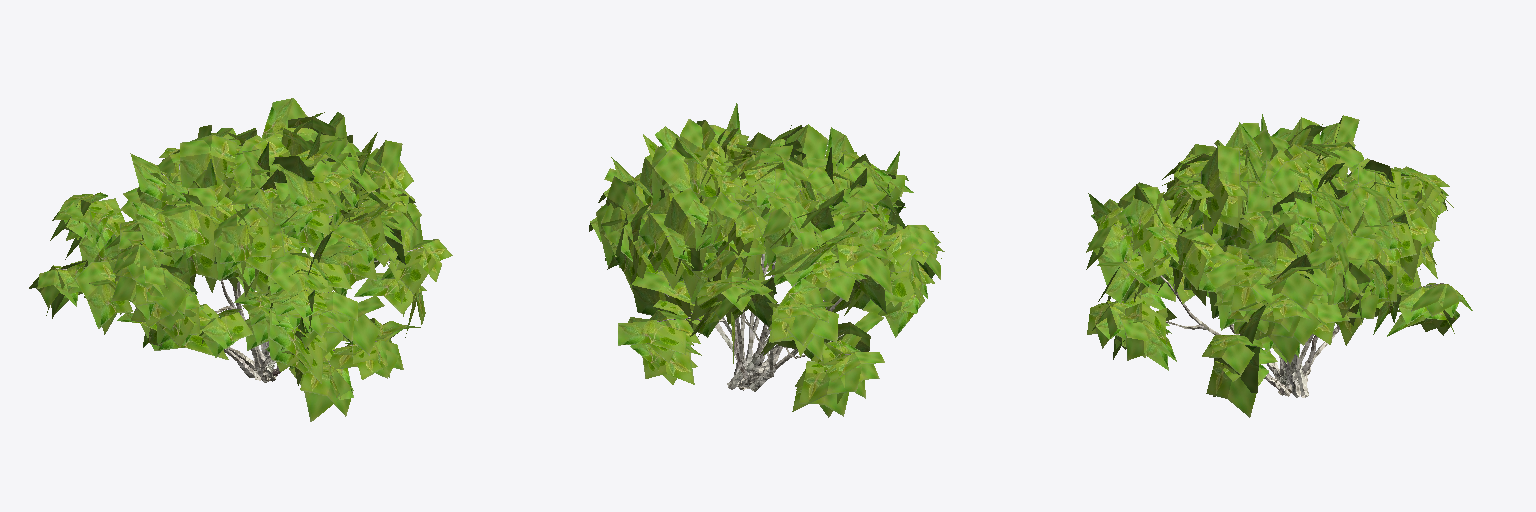
The picture shows the model from 3 angles: view 1: azimuth 30°, elevation 25°; view 2: azimuth 150°, elevation 25°; view 3: azimuth 270°, elevation 25°; orthographic projection.
Visible parts, largest first — view 1: Bush_1_4; view 2: Bush_1_4; view 3: Bush_1_4.
Part boxes in pixels (x1,y1,x2,y2): Bush_1_4: (29,98,452,421); Bush_1_4: (589,103,944,417); Bush_1_4: (1086,114,1472,417).
Bounding box in the file's own units: 0.6485 × 0.484 × 0.6487.
Materials: 1 (1 with a texture image).